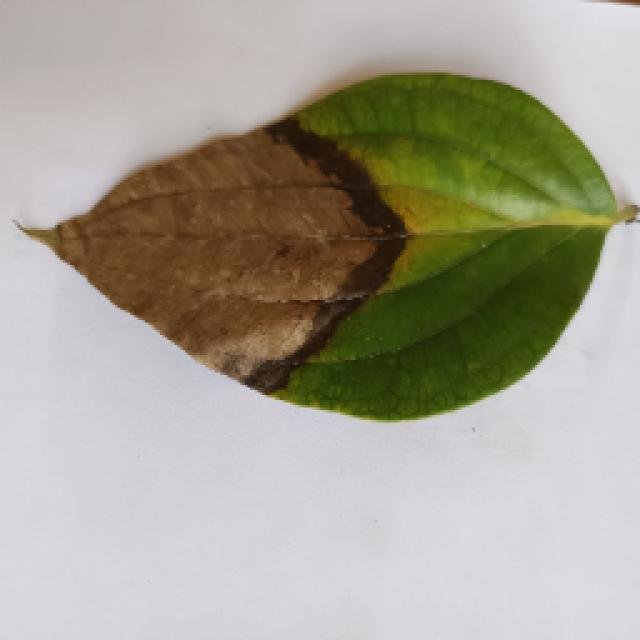footrot: (15, 70, 620, 427)
